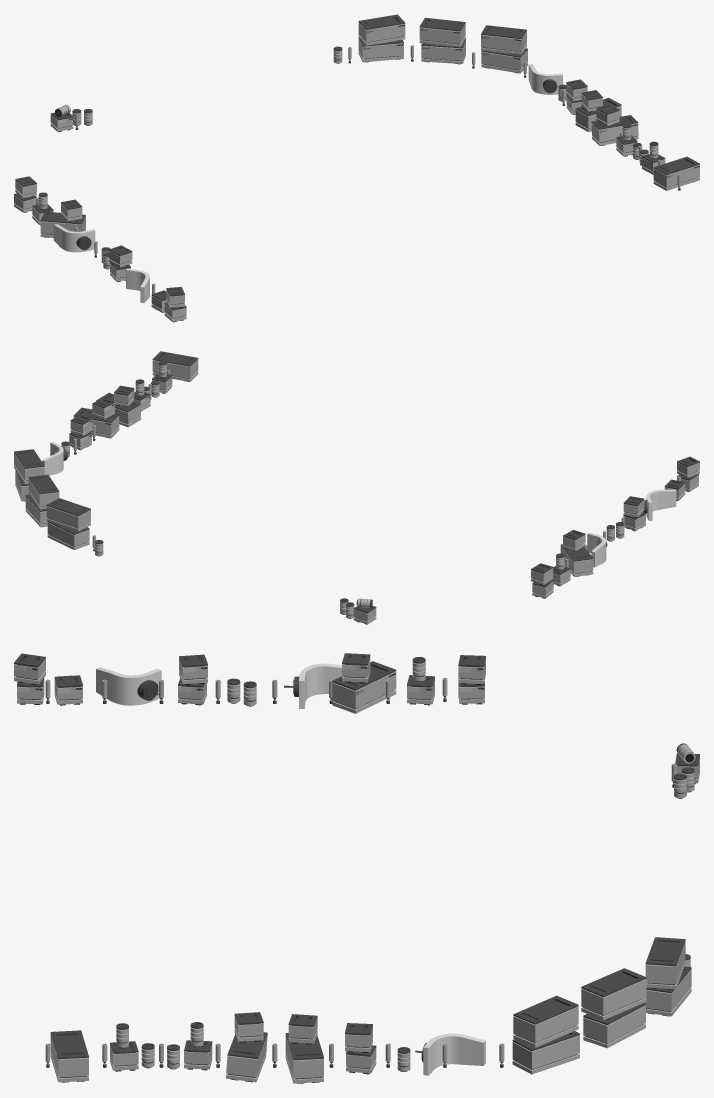
The model's file is BridgeBackgroundObjectsV1.fbx.
3 renders of one model, top to bottom at view 1: azimuth 30°, elevation 25°; view 2: azimuth 150°, elevation 25°; view 3: azimuth 270°, elevation 25°, orthographic. The views are drawn at different scales.
Visible parts, largest first — view 1: BridgeBackgroundObjects; view 2: BridgeBackgroundObjects; view 3: BridgeBackgroundObjects.
Part boxes in pixels (x1=…): BridgeBackgroundObjects: x1=14, y1=14, x2=699, y2=322; BridgeBackgroundObjects: x1=14, y1=351, x2=699, y2=624; BridgeBackgroundObjects: x1=14, y1=653, x2=699, y2=1083.
Size of the model in its own units: 18.27 by 1.17 by 13.31.
